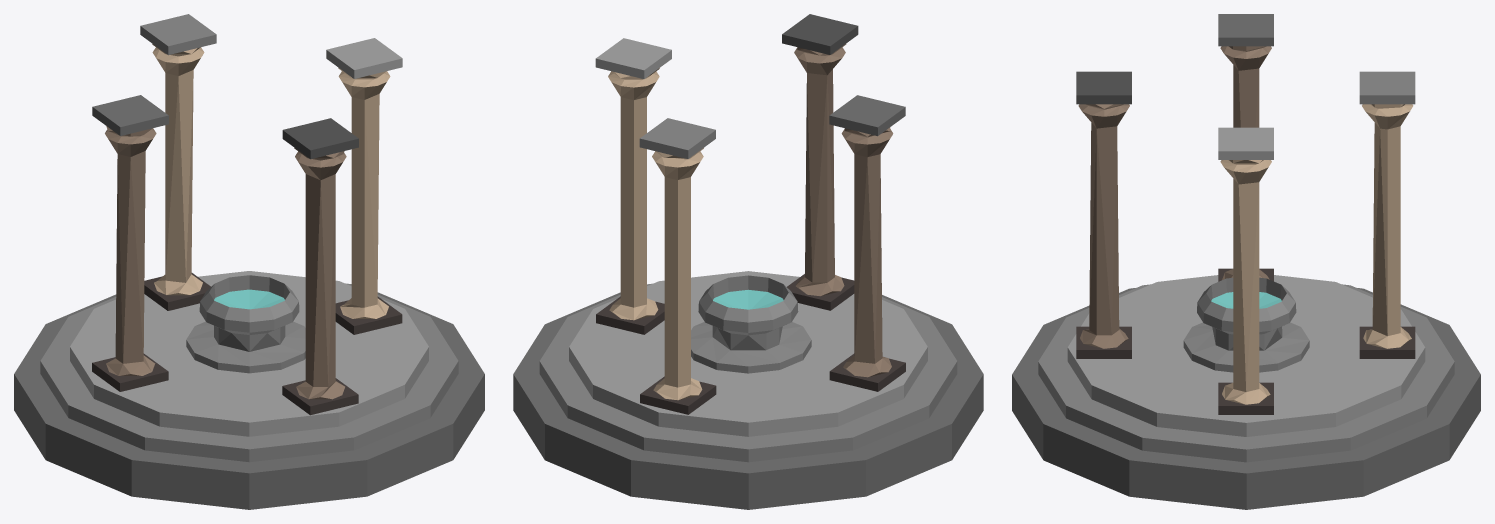
File: ruin12.fbx
3 views of the same model, side by side, from view 1: azimuth 30°, elevation 25°; view 2: azimuth 150°, elevation 25°; view 3: azimuth 270°, elevation 25° (orthographic).
Parts seen in each view (by area): view 1: templeRuinTwo100; view 2: templeRuinTwo100; view 3: templeRuinTwo100.
Boxes of the visible parts, <box> form: templeRuinTwo100: <box>14,14,484,509</box>; templeRuinTwo100: <box>513,14,983,509</box>; templeRuinTwo100: <box>1012,14,1480,509</box>.
Bounding box in the file's own units: 12972 × 9991 × 12972.
